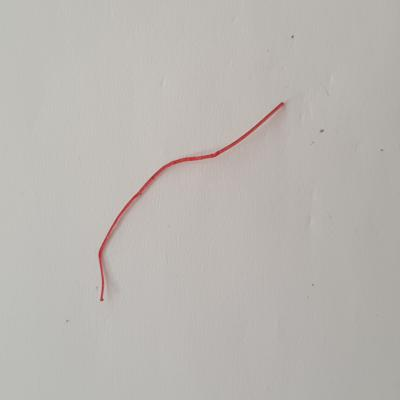thread: (93, 94, 291, 304)
